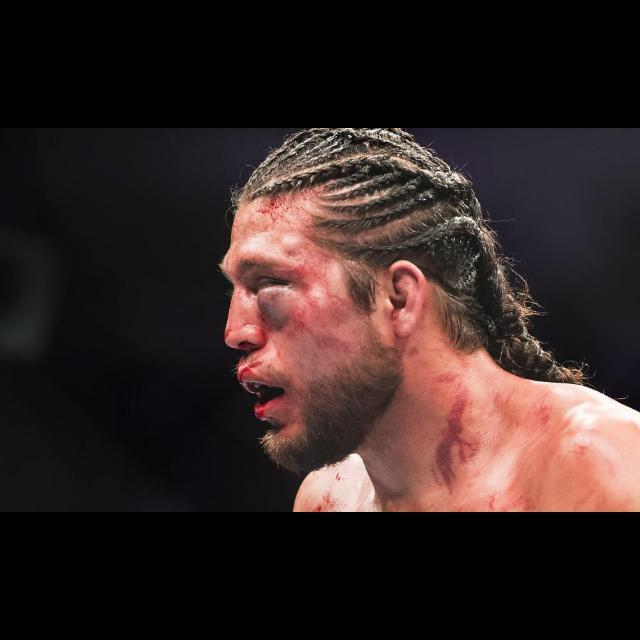blood: (222, 193, 310, 420), (415, 390, 480, 512), (307, 468, 351, 512), (487, 492, 515, 512)
